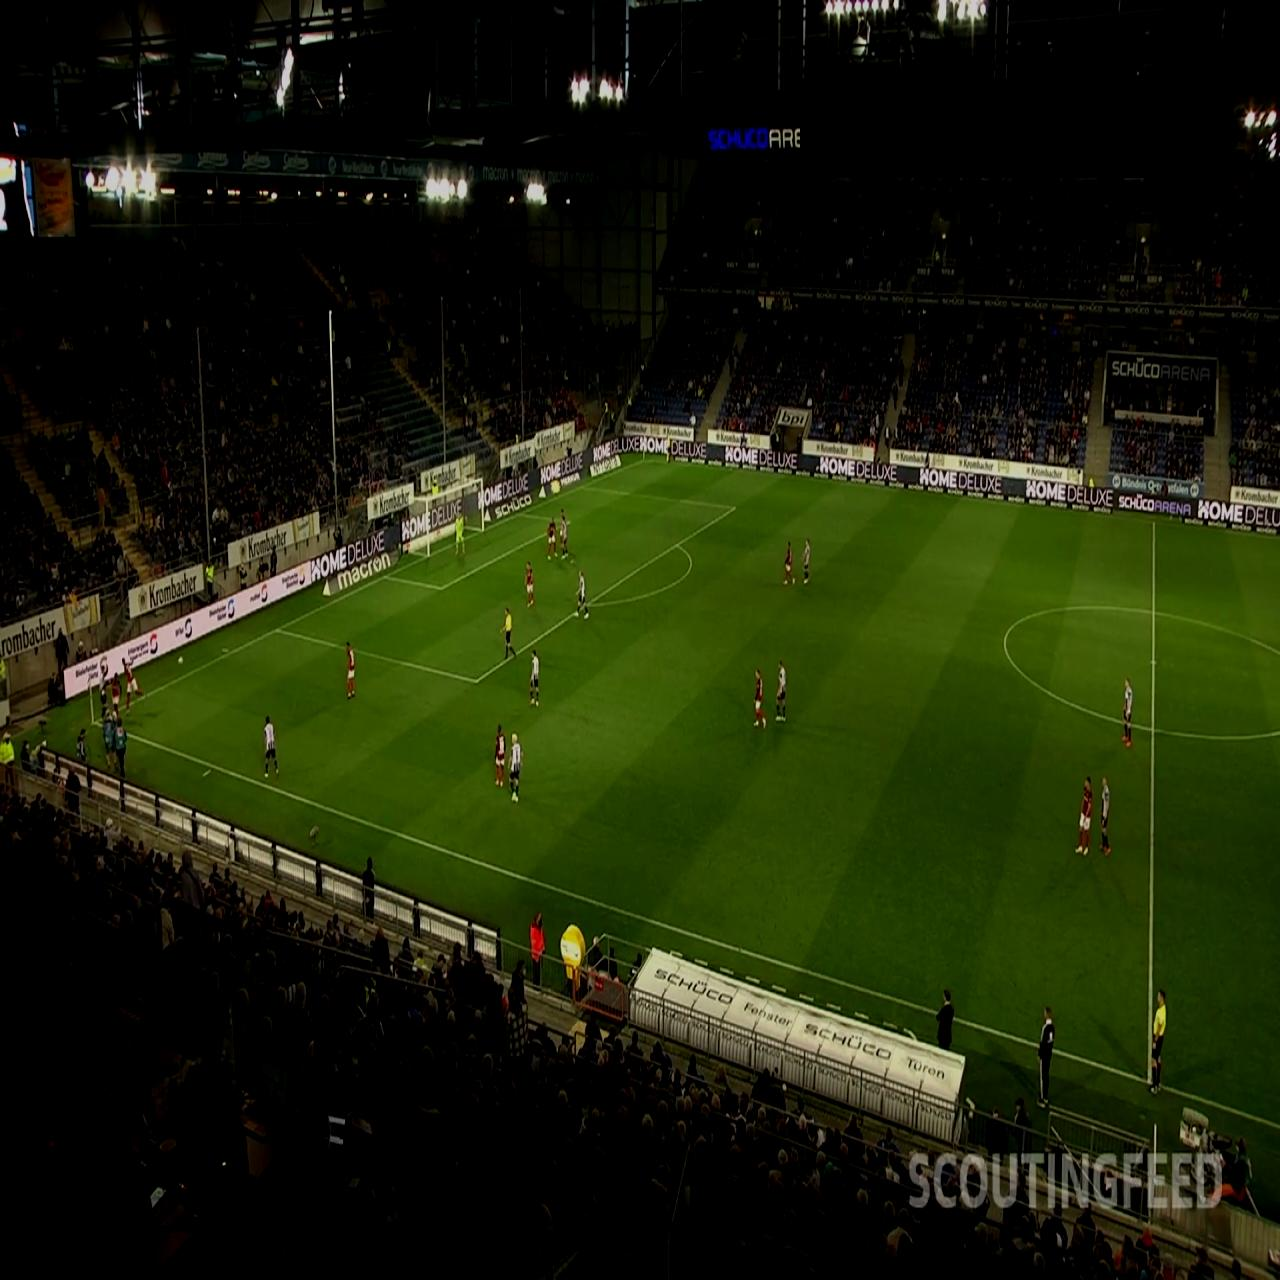goalkeeper: (454, 511, 466, 556)
player: (1076, 775, 1094, 856), (123, 657, 143, 711), (263, 714, 279, 779), (508, 731, 522, 804), (1100, 776, 1112, 854), (753, 667, 767, 729), (109, 671, 124, 727), (1122, 676, 1134, 744), (501, 606, 516, 659), (774, 659, 786, 721), (495, 723, 506, 788), (529, 648, 540, 708), (345, 640, 356, 698), (576, 570, 589, 619), (99, 665, 109, 721), (546, 516, 558, 562), (783, 540, 794, 586), (558, 511, 568, 557), (525, 560, 535, 606), (803, 536, 811, 584)
referee: (1150, 989, 1168, 1095)
